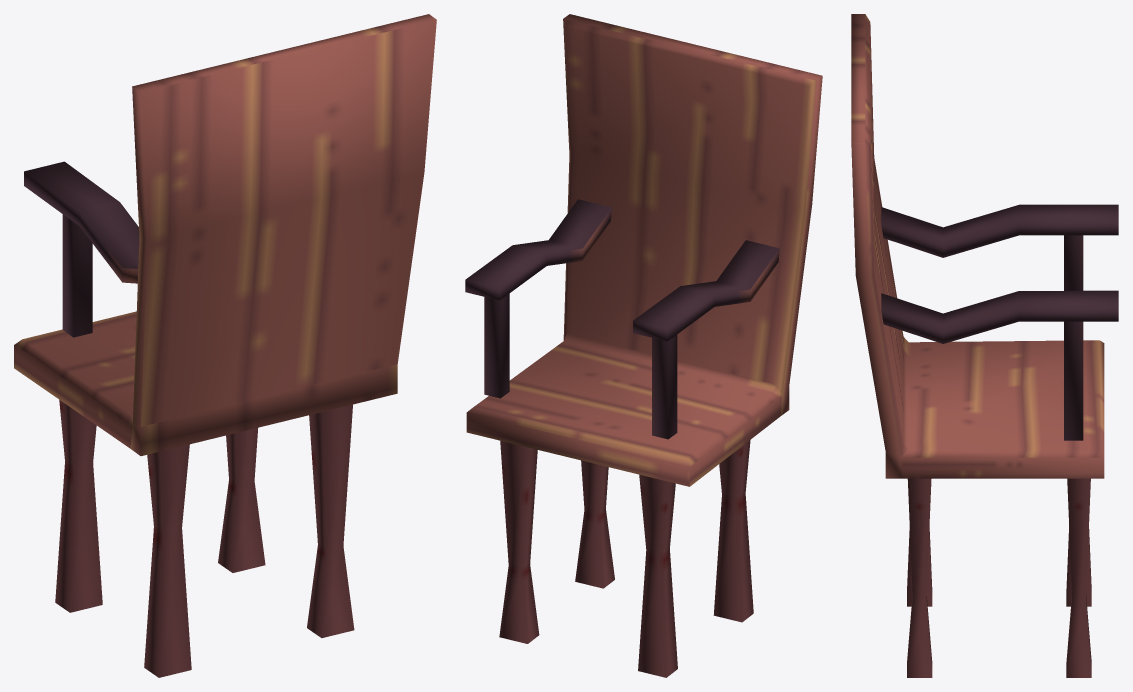
File: CadeiraComApoiador.fbx
3 renders of one model, left to right at view 1: azimuth 30°, elevation 25°; view 2: azimuth 150°, elevation 25°; view 3: azimuth 270°, elevation 25°, orthographic. The views are drawn at different scales.
Parts seen in each view (by area): view 1: CadeiraComApoiador; view 2: CadeiraComApoiador; view 3: CadeiraComApoiador.
Part boxes in pixels (x1,y1,x2,y2): CadeiraComApoiador: (14, 14, 436, 677); CadeiraComApoiador: (465, 14, 822, 677); CadeiraComApoiador: (851, 14, 1118, 677).
Size of the model in its own units: 75.63 by 65.74 by 151.
